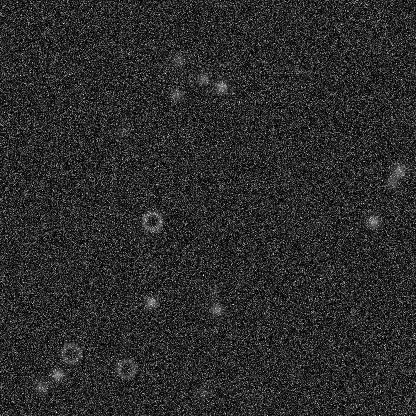Ring: (113, 356, 137, 380), (58, 341, 82, 365), (139, 208, 163, 232)
Spot: (142, 256, 158, 272), (205, 285, 221, 301), (384, 173, 400, 189), (208, 301, 224, 317), (391, 162, 407, 178), (143, 294, 159, 310), (168, 86, 184, 102), (49, 366, 65, 382), (194, 70, 210, 86), (171, 51, 187, 67), (193, 384, 209, 400), (32, 378, 48, 394), (213, 78, 229, 94), (132, 233, 148, 249), (114, 123, 130, 139), (364, 213, 380, 229)
